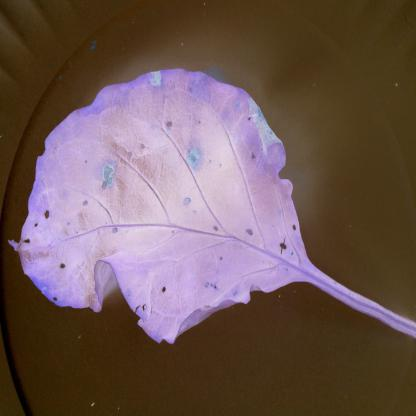bell pepper leaf spot: (1, 61, 311, 350)
